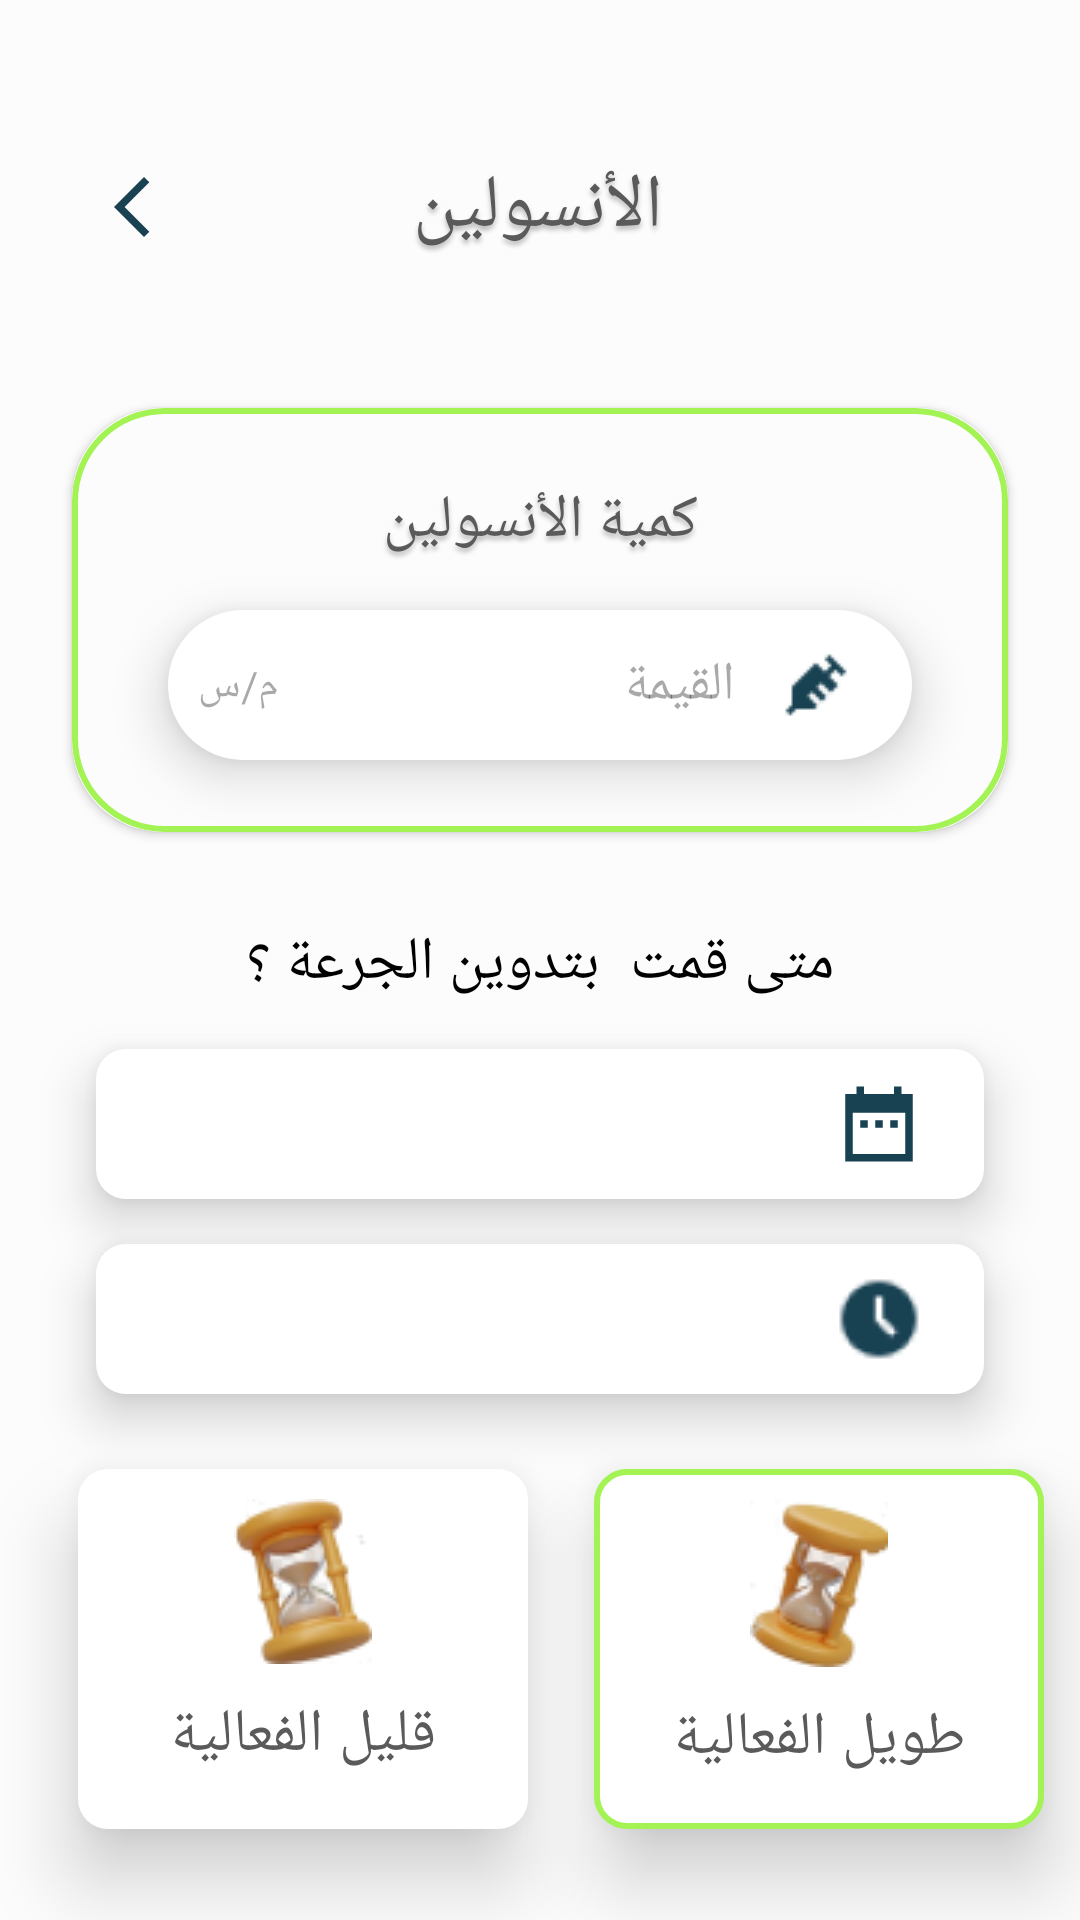

Named icons in this screenshot (1080px×1920px) and their centers, [x,y]:
arrow back: [131,207]
